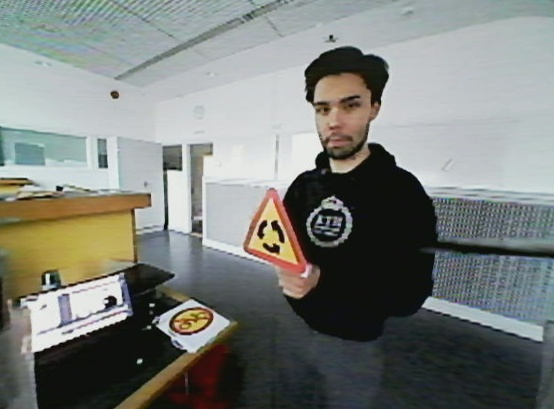roundabout_warning: (241, 186, 309, 278)
